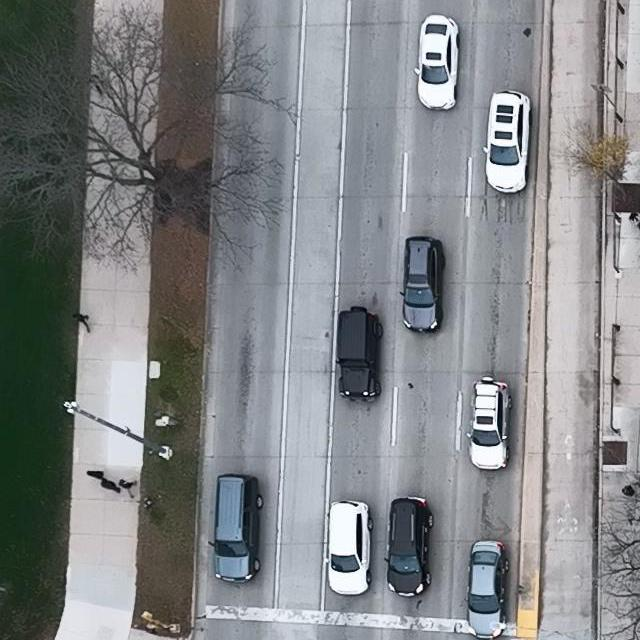car: (207, 473, 264, 584), (482, 90, 533, 195), (383, 496, 434, 598), (325, 500, 374, 596), (334, 306, 383, 402), (414, 14, 461, 111), (466, 540, 511, 640), (466, 376, 513, 471), (400, 235, 445, 334)
